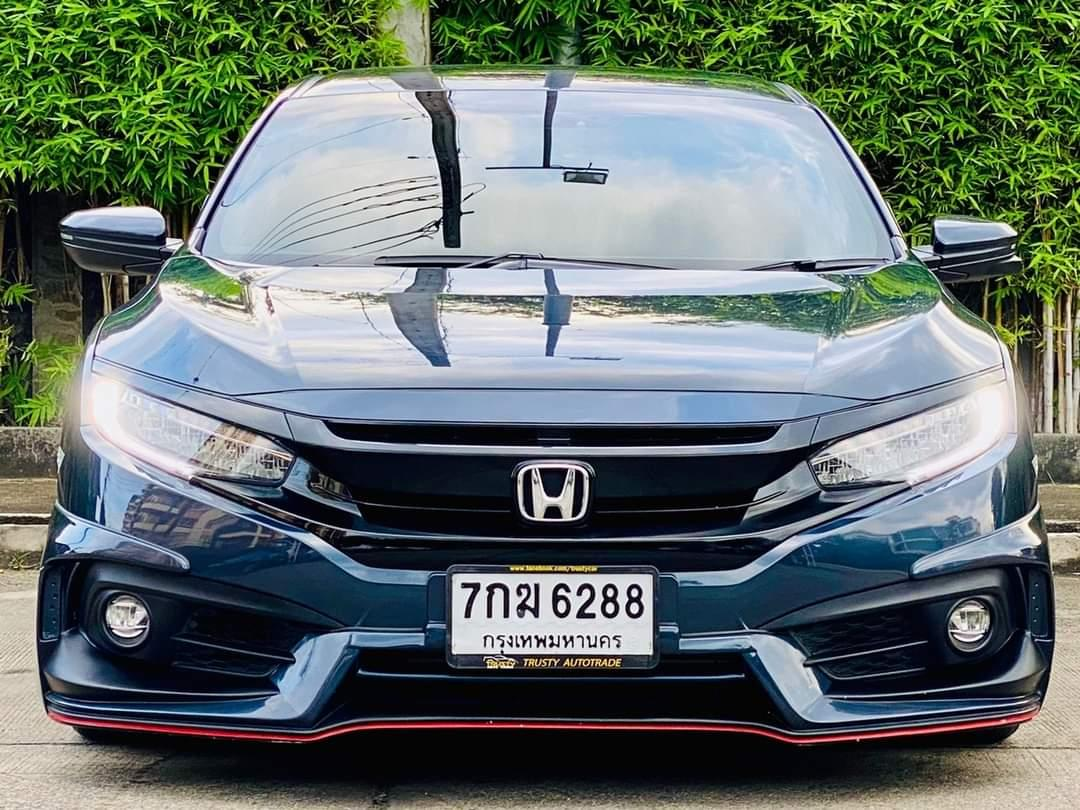license-plate: (446, 562, 659, 671)
